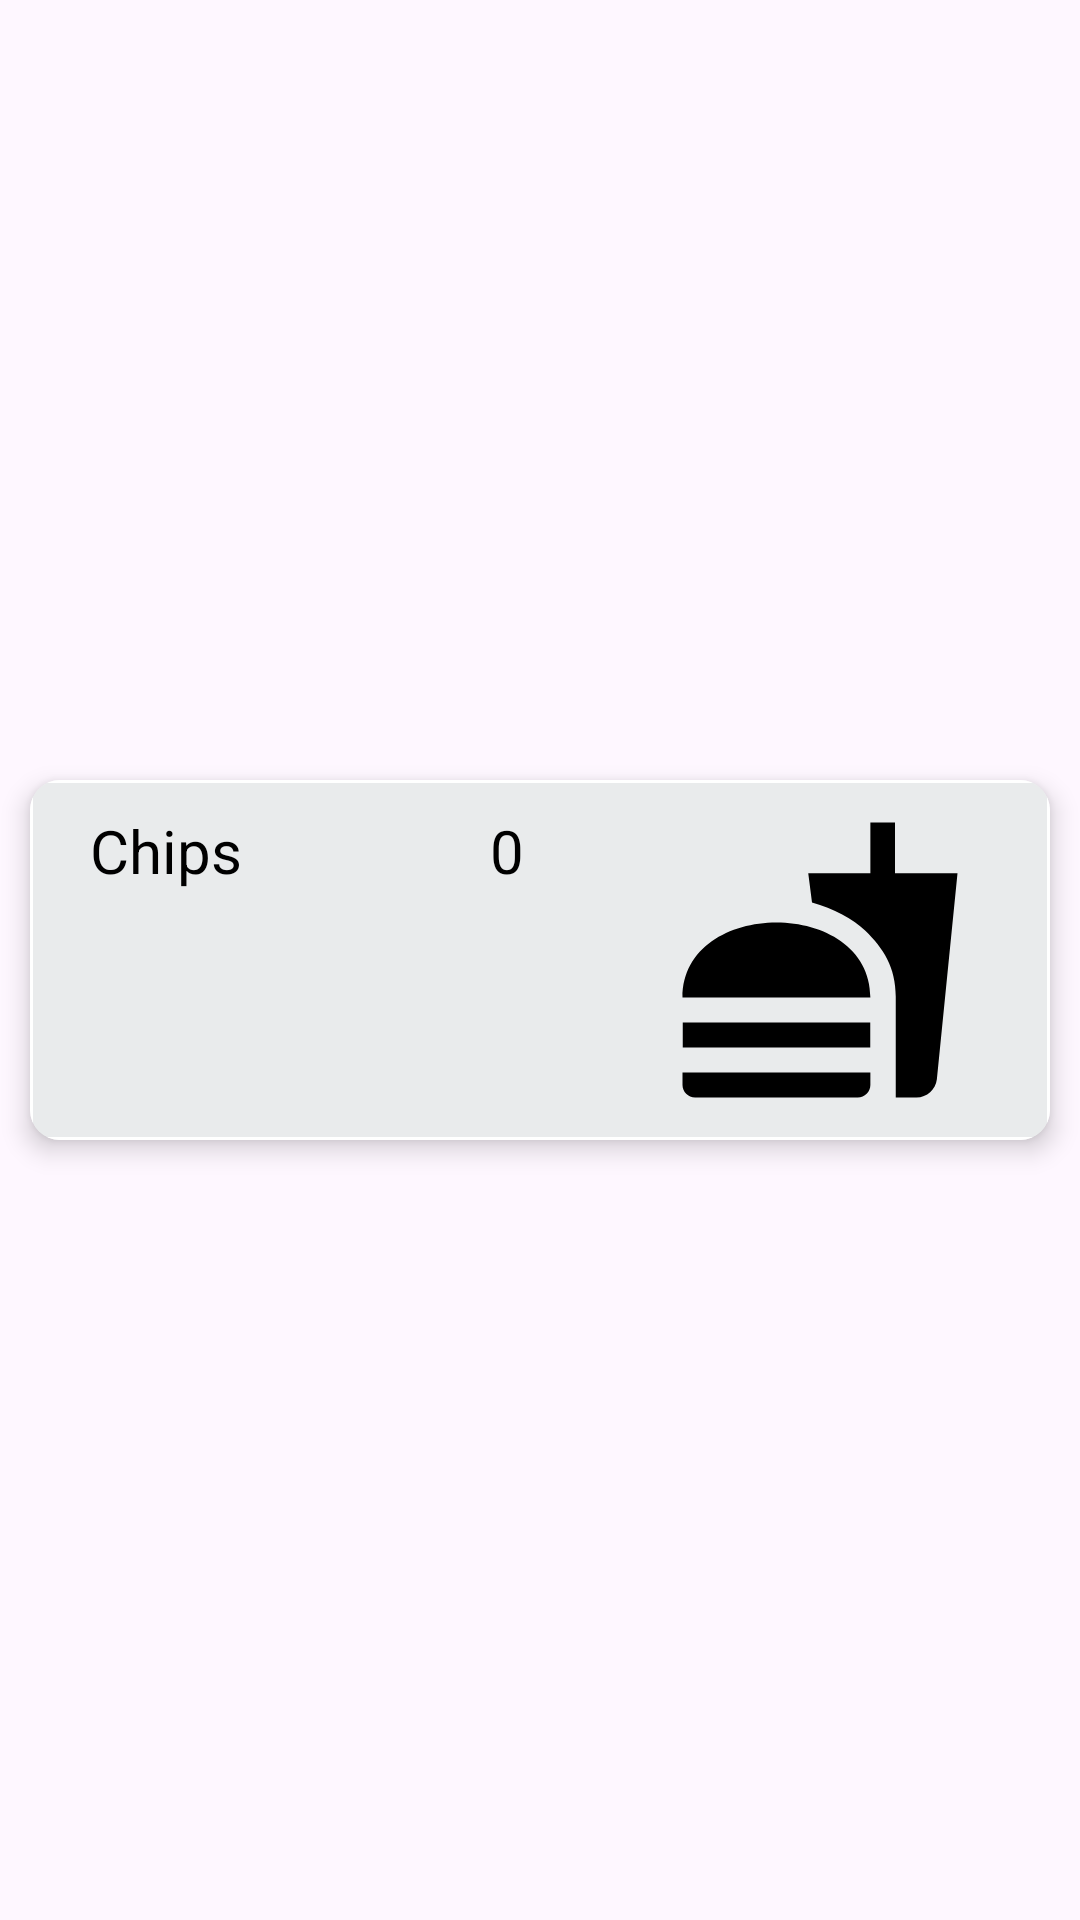

Named icons in this screenshot (1080px×1920px) and their bounding boxes, (x1=x1, y1=y1, x2=x2, y2=y2):
fastfood: (x1=682, y1=822, x2=958, y2=1098)
